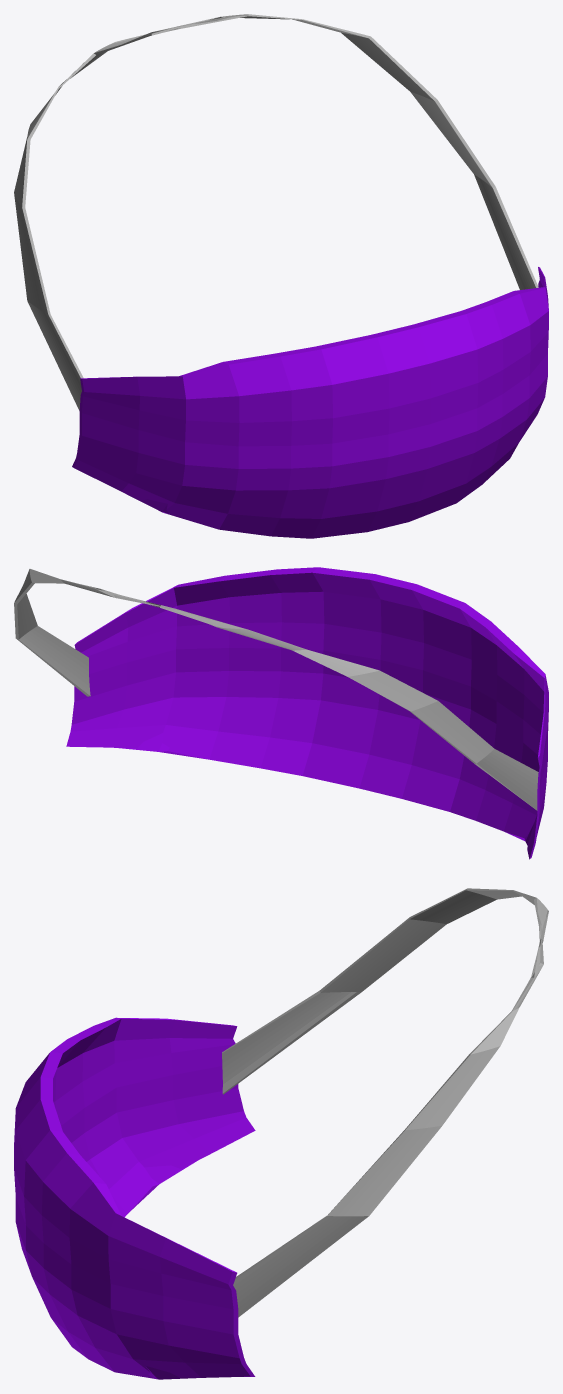
File: mask.fbx
3 renders of one model, top to bottom at view 1: azimuth 30°, elevation 25°; view 2: azimuth 150°, elevation 25°; view 3: azimuth 270°, elevation 25°, orthographic. The views are drawn at different scales.
Visible parts, largest first — view 1: Mask; view 2: Mask; view 3: Mask.
Part boxes in pixels (x1,y1,x2,y2): Mask: (14, 14, 548, 538); Mask: (14, 567, 548, 859); Mask: (14, 888, 548, 1379).
Bounding box in the file's own units: 79.26 × 56.36 × 72.7.
